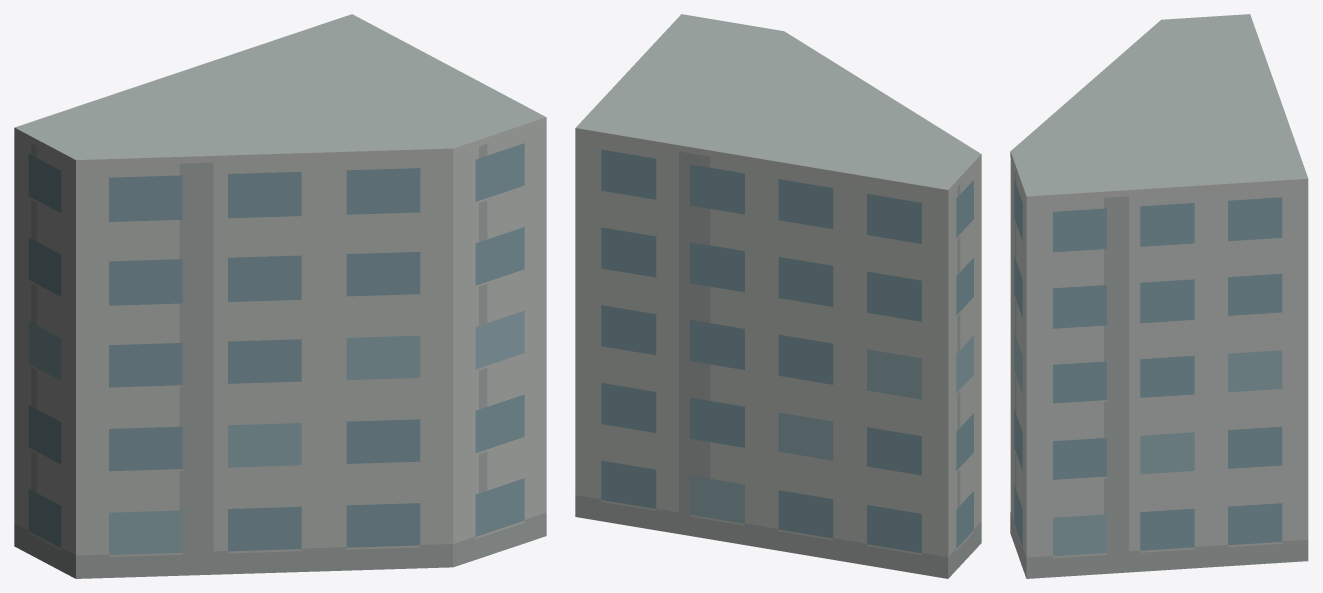
The model's file is residential-5684bfce-a61d-4107-ae0d-0becd8fa6192.glb.
3 views of the same model, side by side, from view 1: azimuth 30°, elevation 25°; view 2: azimuth 150°, elevation 25°; view 3: azimuth 270°, elevation 25° (orthographic). The views are drawn at different scales.
Visible parts, largest first — view 1: residential-5684bfce-a61d-4107-ae0d-0becd8fa6192.tmp; view 2: residential-5684bfce-a61d-4107-ae0d-0becd8fa6192.tmp; view 3: residential-5684bfce-a61d-4107-ae0d-0becd8fa6192.tmp.
Boxes of the visible parts, x1,y1,x2,y2 form: residential-5684bfce-a61d-4107-ae0d-0becd8fa6192.tmp: (14, 14, 546, 578); residential-5684bfce-a61d-4107-ae0d-0becd8fa6192.tmp: (575, 14, 981, 578); residential-5684bfce-a61d-4107-ae0d-0becd8fa6192.tmp: (1010, 14, 1308, 578).
Bounding box in the file's own units: 15.62 × 15.25 × 10.78.
